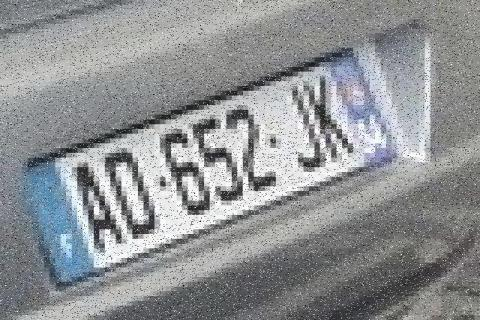LicensePlate: (8, 36, 428, 302)
